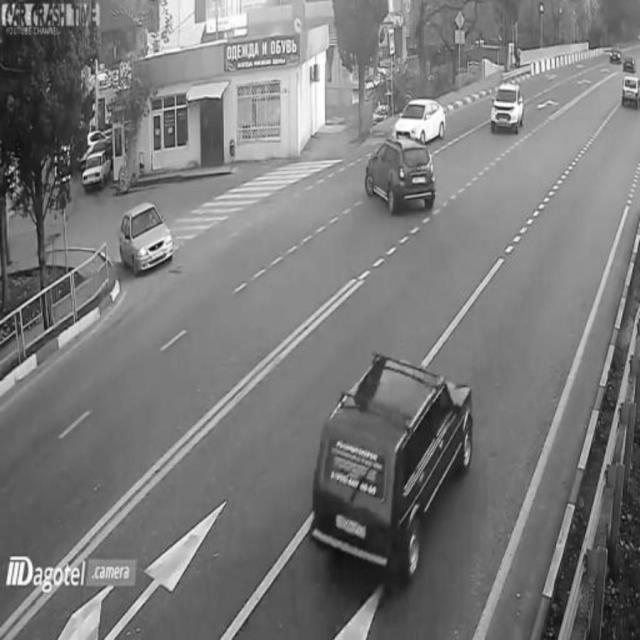vehicle: (316, 347, 473, 575), (364, 141, 441, 211), (116, 198, 176, 280), (393, 97, 448, 139), (490, 78, 526, 134), (79, 152, 114, 189), (620, 70, 640, 110), (605, 44, 627, 64)
